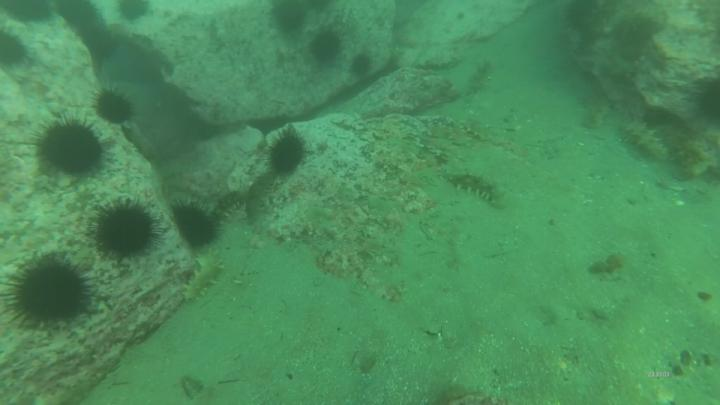echinus: (2, 251, 106, 339), (27, 110, 112, 186), (82, 194, 166, 265), (167, 197, 221, 249), (86, 82, 139, 128), (267, 128, 311, 183), (303, 24, 348, 70), (268, 2, 312, 37), (1, 28, 41, 65), (1, 1, 59, 26), (116, 1, 155, 25), (348, 49, 376, 79)
holothurian: (447, 170, 513, 214), (617, 119, 672, 167), (242, 169, 282, 224), (185, 252, 227, 304), (460, 59, 498, 96), (586, 90, 616, 132), (462, 112, 498, 145), (209, 191, 245, 221)
